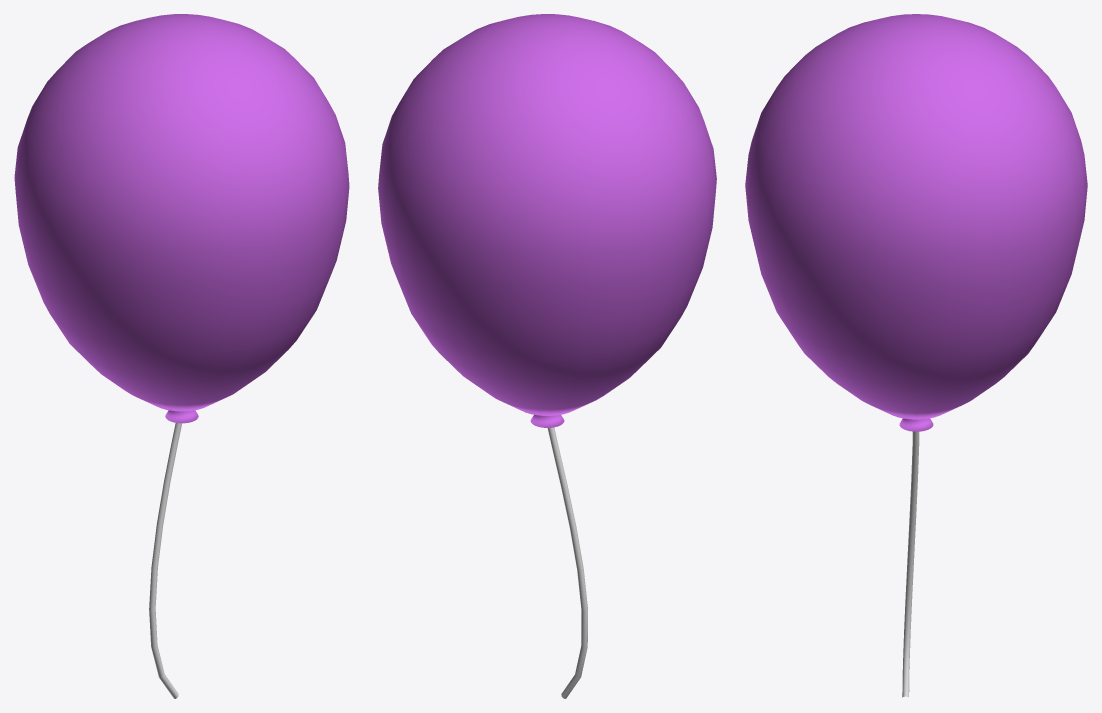
File: globo.glb
3 views of the same model, side by side, from view 1: azimuth 30°, elevation 25°; view 2: azimuth 150°, elevation 25°; view 3: azimuth 270°, elevation 25° (orthographic). The views are drawn at different scales.
Visible parts, largest first — view 1: Sphere, Hilo_Curvo; view 2: Sphere, Hilo_Curvo; view 3: Sphere, Hilo_Curvo.
Boxes of the visible parts, <box> form: Sphere: <box>14,14,349,423</box>; Hilo_Curvo: <box>149,423,181,698</box>; Sphere: <box>378,14,716,427</box>; Hilo_Curvo: <box>547,427,587,698</box>; Sphere: <box>745,14,1087,431</box>; Hilo_Curvo: <box>902,431,919,697</box>.
Bounding box in the file's own units: 2 × 4.35 × 2.
